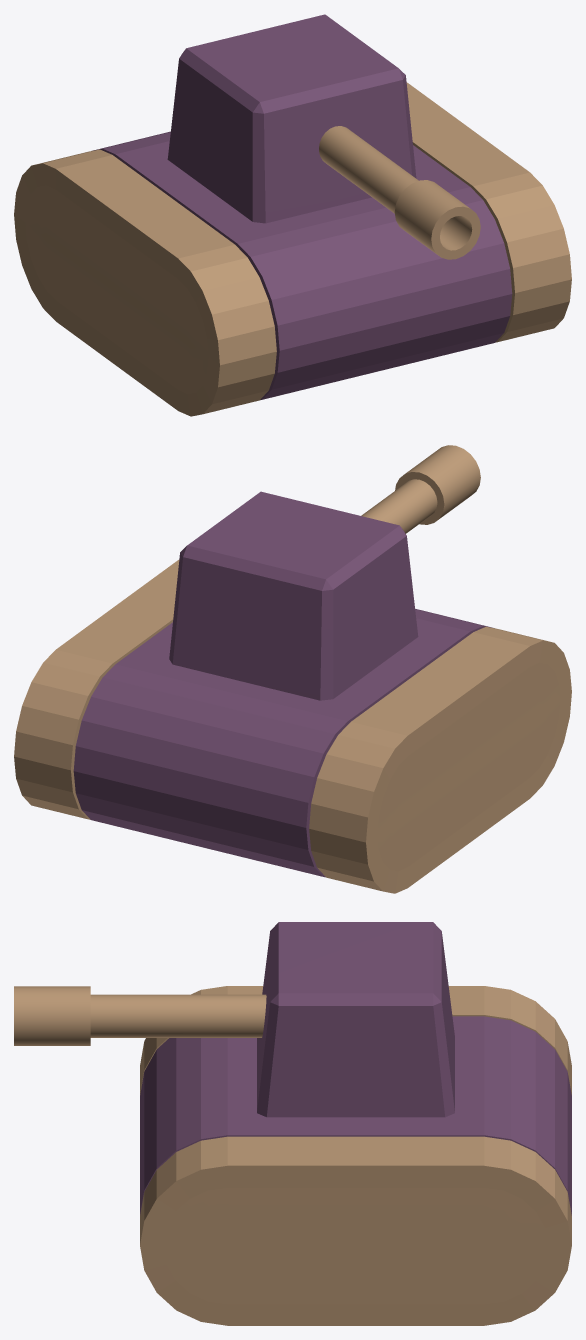
File: EnemyTank.fbx
The picture shows the model from 3 angles, top to bottom: view 1: azimuth 30°, elevation 25°; view 2: azimuth 150°, elevation 25°; view 3: azimuth 270°, elevation 25°; orthographic projection. The views are drawn at different scales.
Visible parts, largest first — view 1: tread_right, base, head, tread_left, nozzle; view 2: base, tread_right, head, tread_left, nozzle; view 3: tread_left, head, base, nozzle, tread_right.
Boxes of the visible parts, x1,y1,x2,y2 form: tread_right: [14, 149, 276, 416]; base: [92, 131, 512, 400]; head: [167, 14, 416, 223]; tread_left: [406, 82, 571, 342]; nozzle: [319, 126, 480, 259]; base: [73, 608, 494, 877]; tread_right: [309, 626, 571, 893]; head: [169, 491, 418, 700]; tread_left: [14, 560, 179, 819]; nozzle: [361, 445, 480, 533]; tread_left: [140, 1136, 571, 1325]; head: [257, 922, 454, 1117]; base: [140, 1016, 571, 1215]; nozzle: [14, 986, 266, 1045]; tread_right: [140, 986, 571, 1094].
Bounding box in the file's own units: 98.11 × 70.57 × 128.
